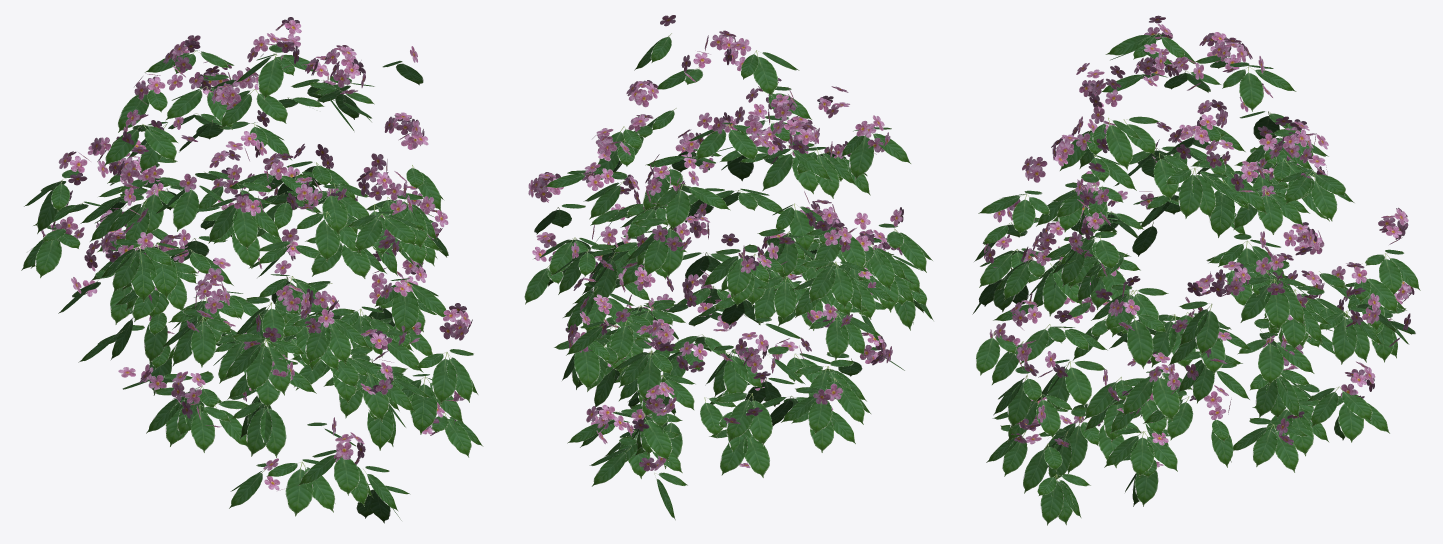
File: MESH_TabebuiaRosea_Y_LOD1.fbx
3 views of the same model, side by side, from view 1: azimuth 30°, elevation 25°; view 2: azimuth 150°, elevation 25°; view 3: azimuth 270°, elevation 25° (orthographic). The views are drawn at different scales.
Parts seen in each view (by area): view 1: MI_LOD1_001, MI_LOD1_002; view 2: MI_LOD1_001, MI_LOD1_002; view 3: MI_LOD1_001, MI_LOD1_002.
Part boxes in pixels (<box>): MI_LOD1_001: <box>21,44,483,523</box>; MI_LOD1_002: <box>41,17,472,490</box>; MI_LOD1_001: <box>524,33,933,520</box>; MI_LOD1_002: <box>528,15,903,471</box>; MI_LOD1_001: <box>972,33,1420,525</box>; MI_LOD1_002: <box>984,15,1414,467</box>.
Size of what is drawn, in the model's own units: 180 by 203 by 187.
